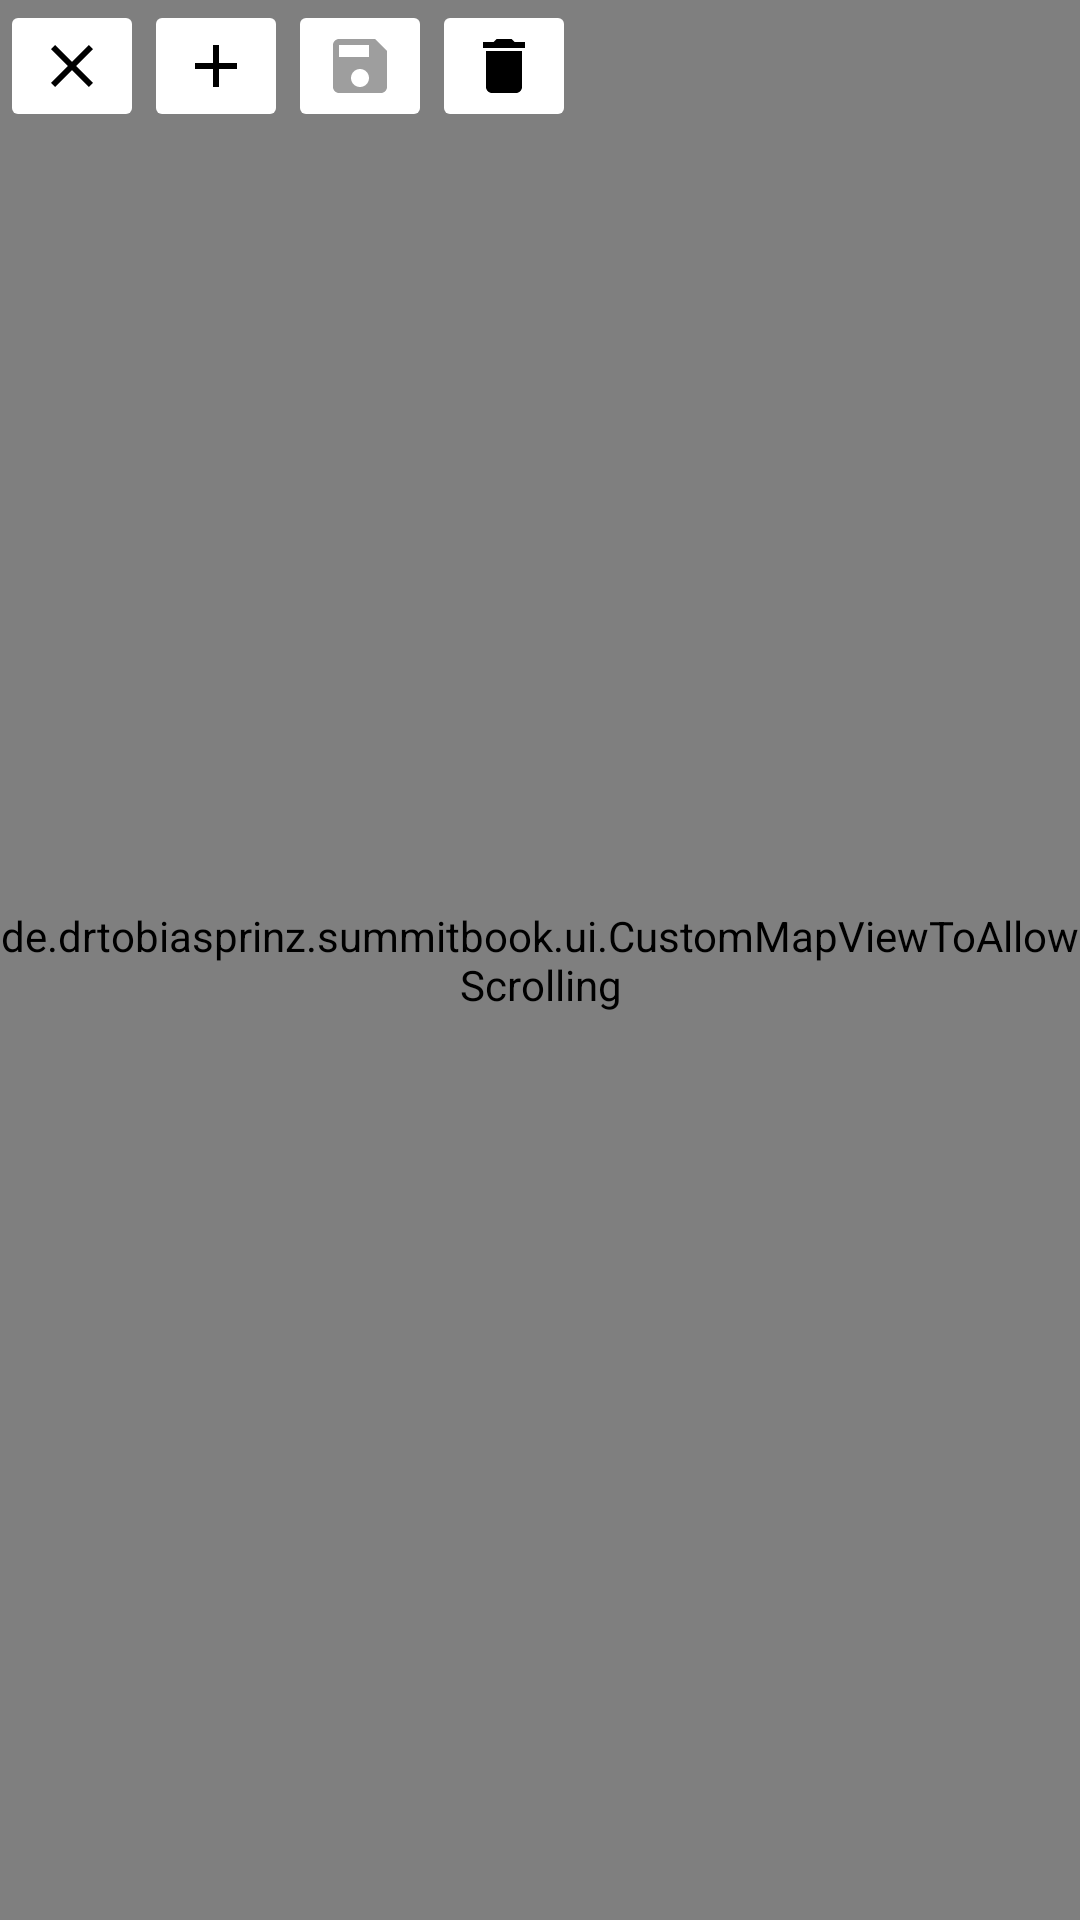

Locate icon controls on the screen. Image size 1080x1920, boxes as box=[x1, y1, x2, y2].
add GPS track: box=[156, 18, 276, 114]
Save: box=[300, 18, 420, 114]
